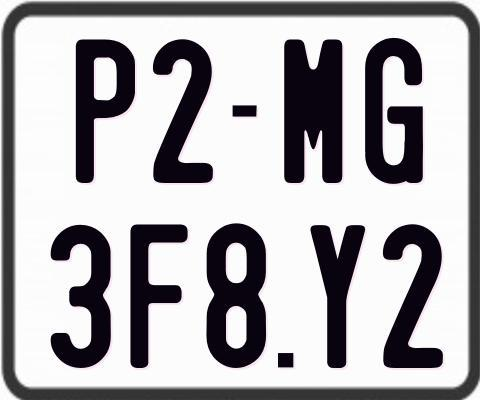2: (382, 222, 447, 369), (151, 39, 212, 189)
3: (48, 223, 111, 369)
8: (203, 223, 266, 374)
F: (129, 224, 193, 373)
G: (364, 36, 426, 185)
M: (283, 37, 342, 186)
P: (74, 37, 135, 186)
Y: (308, 224, 364, 370)
